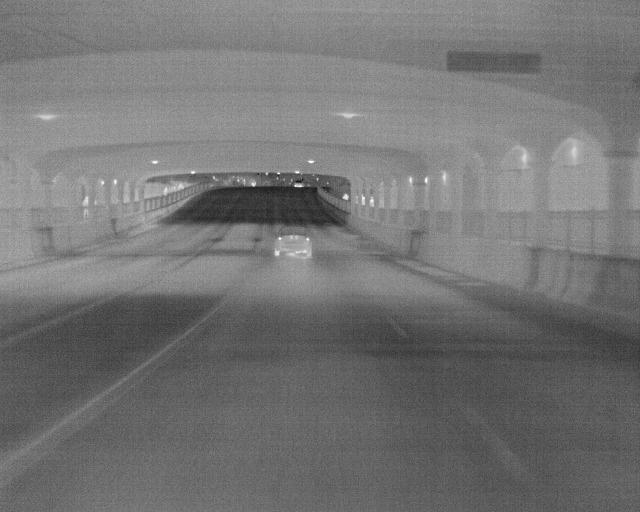car: (273, 223, 313, 258)
